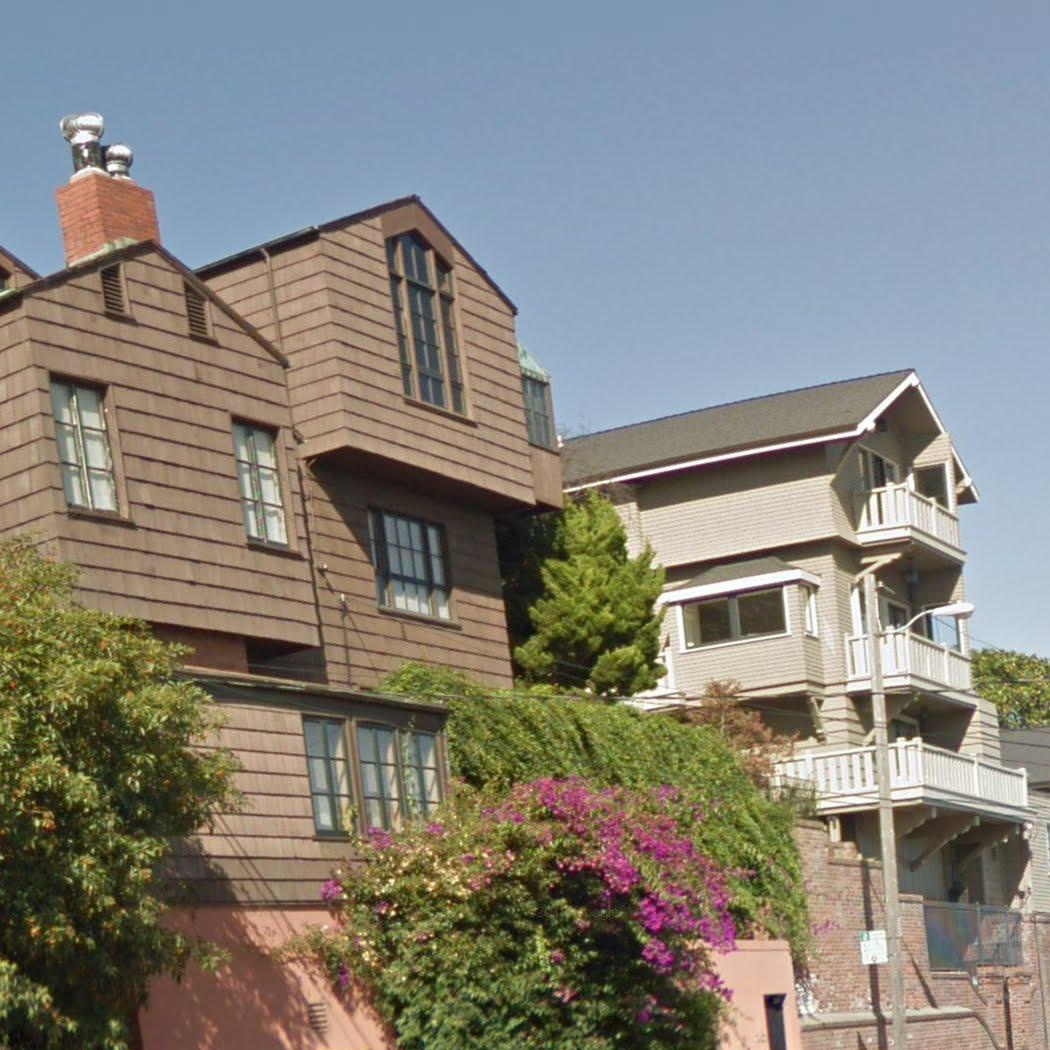2 Hour Parking: (859, 929, 889, 966)
